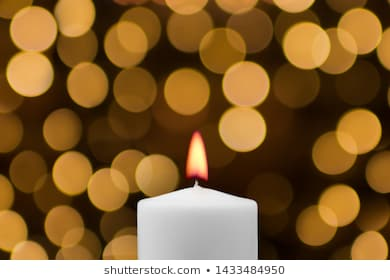Fire: (179, 126, 211, 185)
